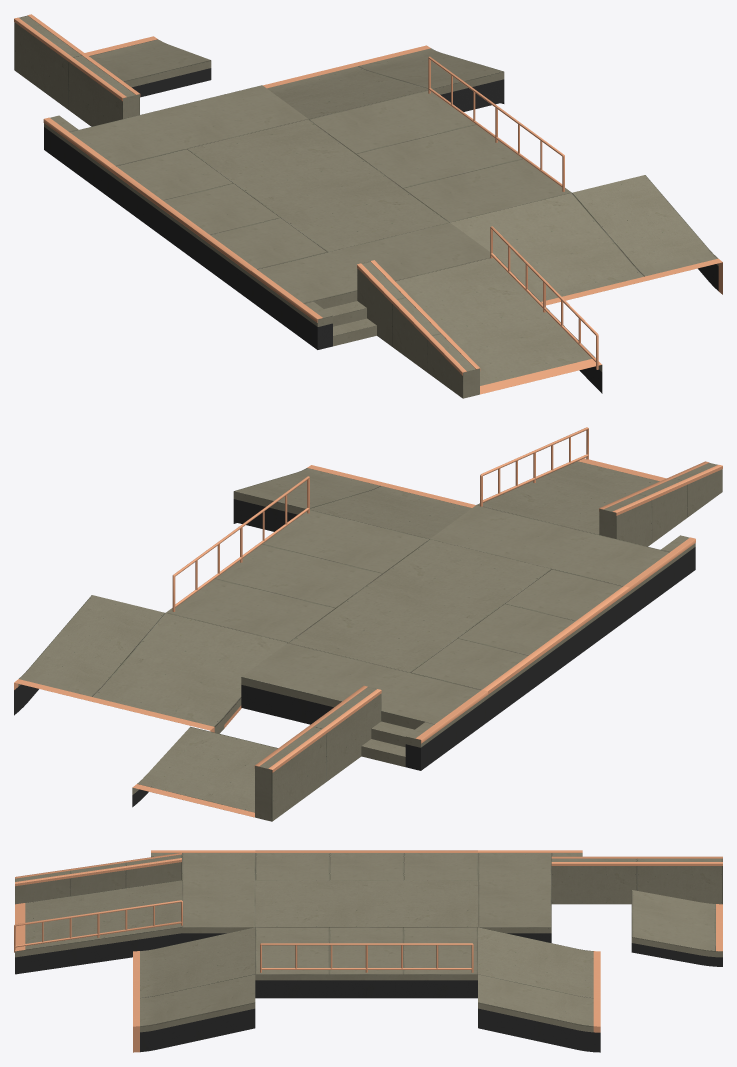
Rendered from funbox-big.glb.
The picture shows the model from 3 angles, top to bottom: view 1: azimuth 30°, elevation 25°; view 2: azimuth 150°, elevation 25°; view 3: azimuth 270°, elevation 25°; orthographic projection. The views are drawn at different scales.
Visible parts, largest first — view 1: FunboxBigWood, FunboxBigHubba, FunboxBigBase, FunboxBigAngleIron, FunboxBigMetal, FunboxBigStraightRail, FunboxBigDownRail; view 2: FunboxBigWood, FunboxBigHubba, FunboxBigBase, FunboxBigAngleIron, FunboxBigMetal, FunboxBigStraightRail, FunboxBigDownRail; view 3: FunboxBigWood, FunboxBigBase, FunboxBigHubba, FunboxBigAngleIron, FunboxBigMetal, FunboxBigStraightRail, FunboxBigDownRail.
Boxes of the visible parts, x1,y1,x2,y2 form: FunboxBigWood: (44, 39, 718, 385); FunboxBigHubba: (14, 15, 479, 398); FunboxBigBase: (44, 68, 718, 393); FunboxBigAngleIron: (14, 14, 480, 375); FunboxBigMetal: (85, 36, 722, 394); FunboxBigStraightRail: (428, 56, 564, 191); FunboxBigDownRail: (490, 226, 598, 369); FunboxBigWood: (18, 461, 695, 812); FunboxBigHubba: (255, 463, 722, 821); FunboxBigBase: (14, 499, 695, 807); FunboxBigAngleIron: (254, 461, 722, 772); FunboxBigMetal: (14, 458, 666, 817); FunboxBigStraightRail: (172, 476, 309, 611); FunboxBigDownRail: (480, 427, 588, 506); FunboxBigWood: (15, 853, 722, 1032); FunboxBigBase: (15, 933, 722, 1052); FunboxBigHubba: (15, 854, 722, 904); FunboxBigAngleIron: (15, 850, 722, 886); FunboxBigMetal: (15, 903, 722, 1052); FunboxBigStraightRail: (260, 943, 473, 972); FunboxBigDownRail: (14, 900, 182, 952).
Size of the model in its own units: 79.04 by 19.15 by 156.
4 materials, 4 textured.
